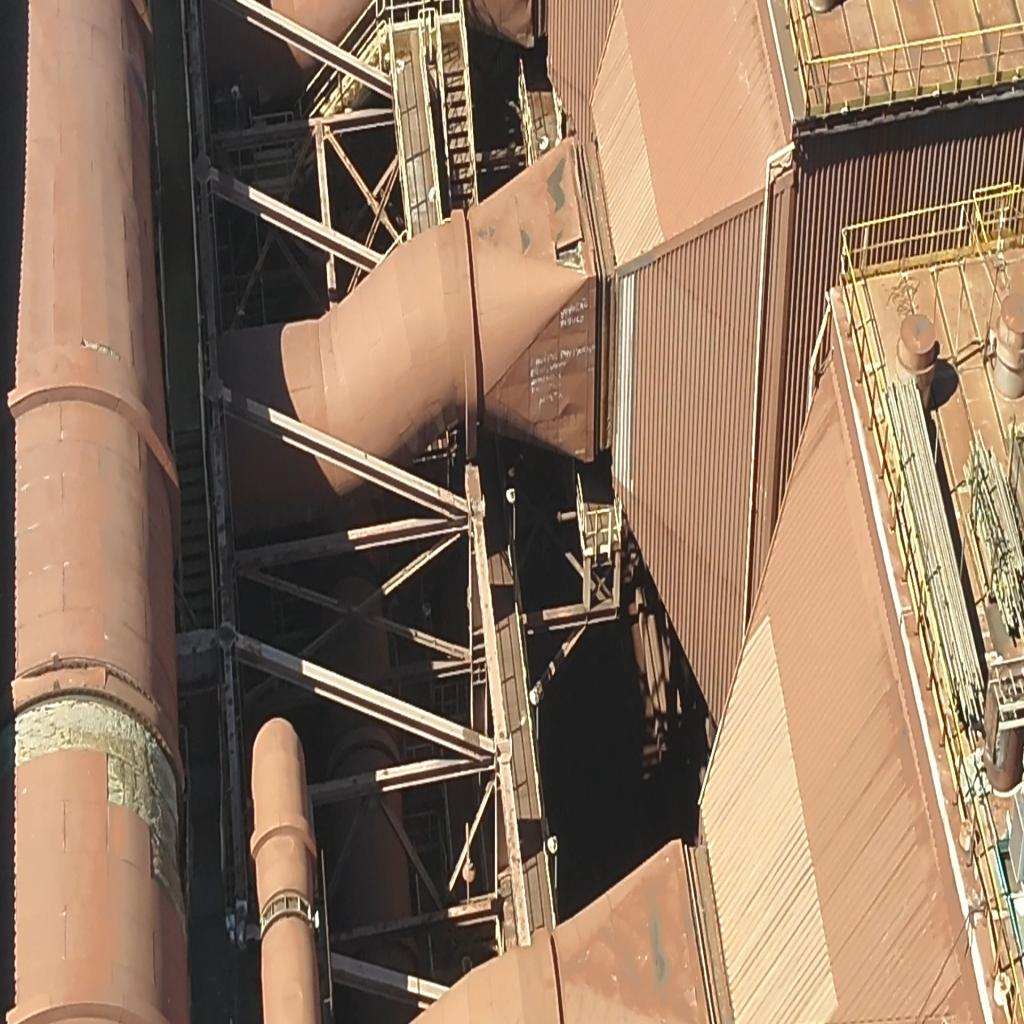Failures: (10, 689, 192, 883), (546, 226, 588, 273)
